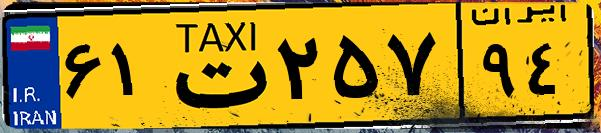1: (110, 28, 158, 98)
2: (270, 28, 330, 110)
4: (525, 38, 570, 115)
5: (330, 28, 385, 110)
6: (57, 26, 110, 100)
7: (385, 28, 445, 110)
9: (475, 38, 525, 113)
ت: (158, 12, 270, 120)
